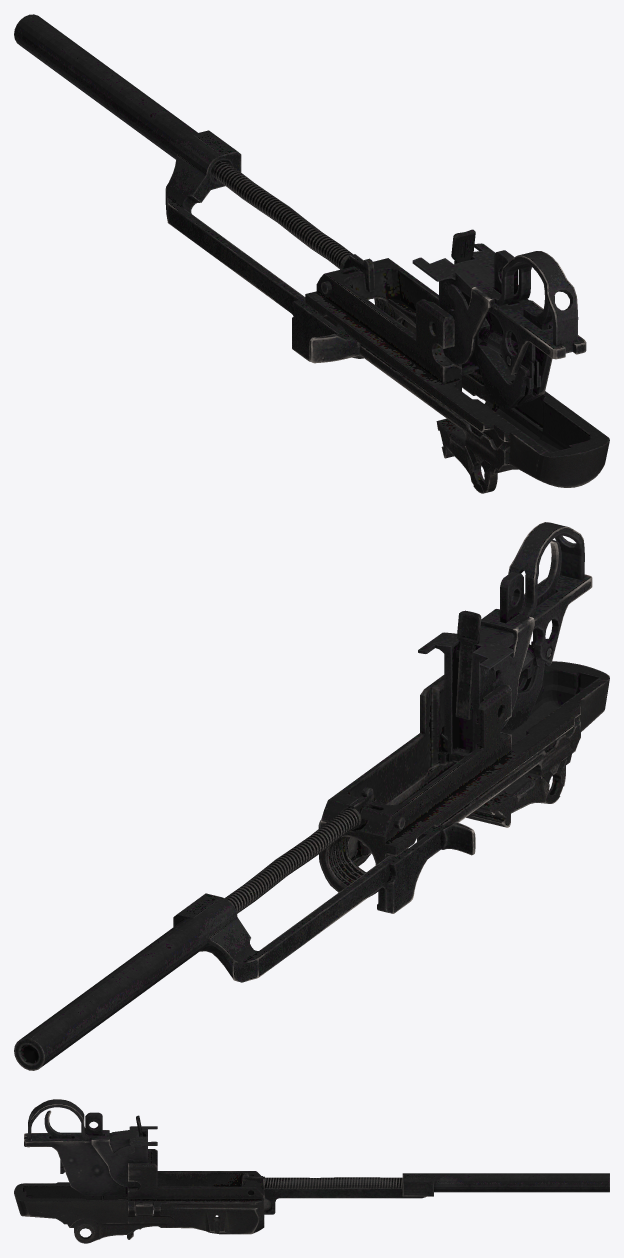
3 renders of one model, top to bottom at view 1: azimuth 30°, elevation 25°; view 2: azimuth 150°, elevation 25°; view 3: azimuth 270°, elevation 25°, orthographic. The views are drawn at different scales.
Visible parts, largest first — view 1: TW_5aafa857e5b5b00018480968_PZ_Import; view 2: TW_5aafa857e5b5b00018480968_PZ_Import; view 3: TW_5aafa857e5b5b00018480968_PZ_Import.
Boxes of the visible parts, x1,y1,x2,y2 form: TW_5aafa857e5b5b00018480968_PZ_Import: (14,14,609,493); TW_5aafa857e5b5b00018480968_PZ_Import: (14,522,609,1070); TW_5aafa857e5b5b00018480968_PZ_Import: (14,1099,609,1243).
Bounding box in the file's own units: 0.0373 × 0.2807 × 0.0686.
Materials: 1 (1 with a texture image).
